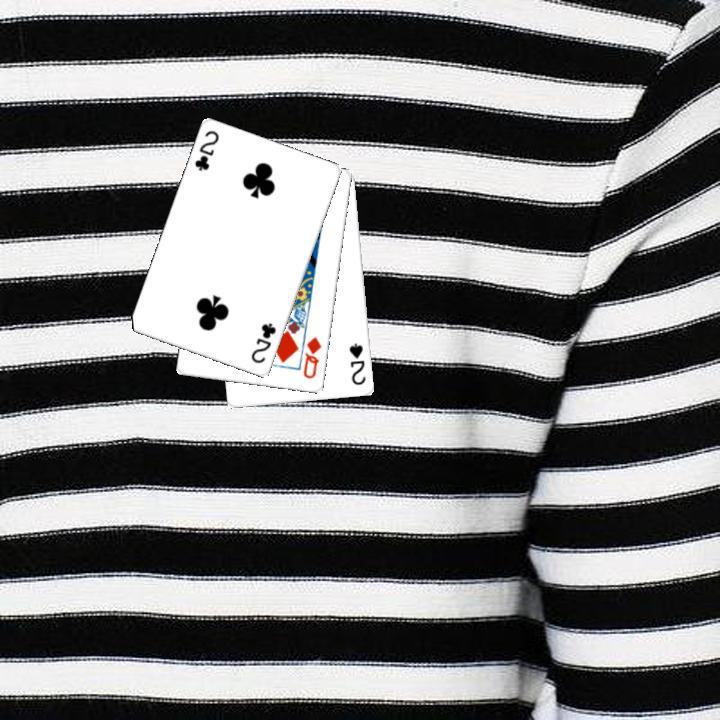2: (247, 319, 278, 366), (190, 126, 221, 173), (345, 339, 368, 387)
Q: (299, 333, 324, 381)
